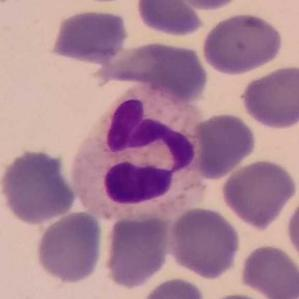Neutrophil: (66, 90, 209, 221)
RBC: (0, 147, 78, 225), (101, 210, 174, 291), (218, 157, 298, 230), (166, 204, 242, 280), (33, 210, 106, 286), (200, 11, 284, 76), (111, 39, 204, 97), (187, 110, 258, 180), (48, 7, 131, 65), (238, 63, 299, 131), (238, 242, 299, 299), (133, 0, 207, 39), (137, 275, 209, 299), (283, 189, 299, 270), (166, 0, 245, 11)
